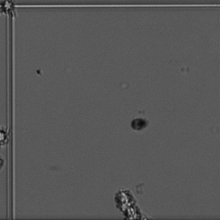Dead Cell: (128, 115, 151, 132)
